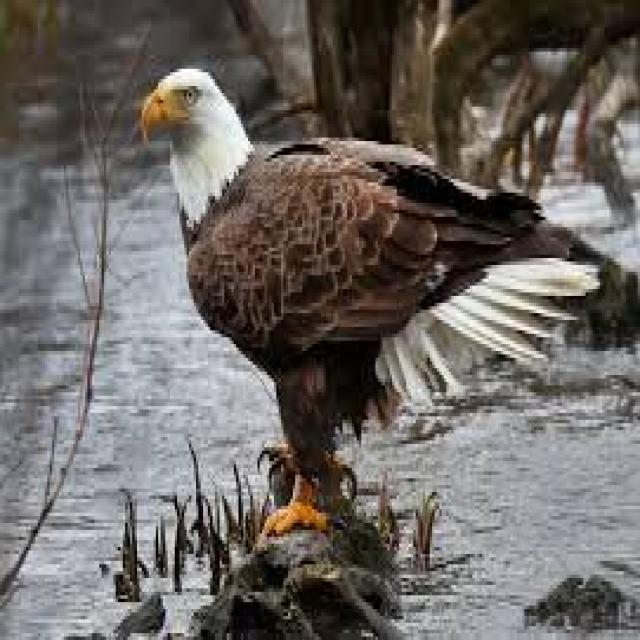Eagle: (141, 69, 589, 530)
